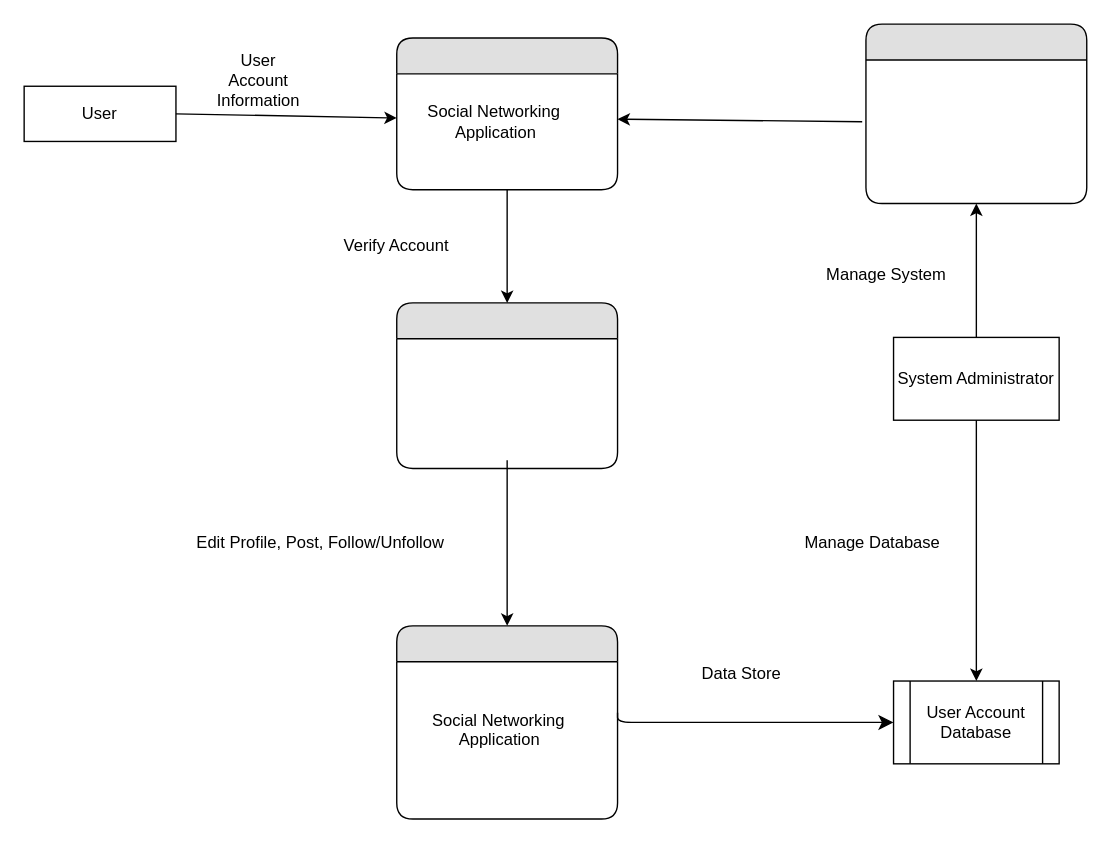
Image size: 1111x843. Some labels were removed from this diagram. Each missing label, with the centre of its shape:
"Authenticate User Account" belongs at [506,385].
"Update System Information" belongs at [976,113].
